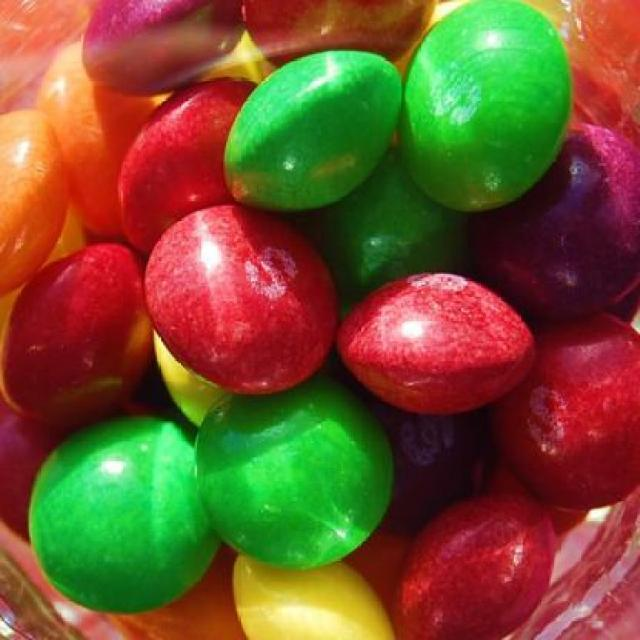Candy: (0, 0, 640, 640), (191, 348, 394, 568)
